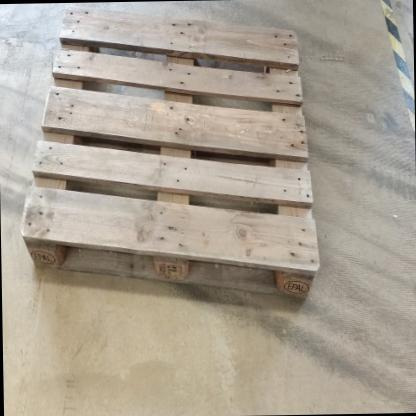BoxFace: (15, 6, 324, 306)
